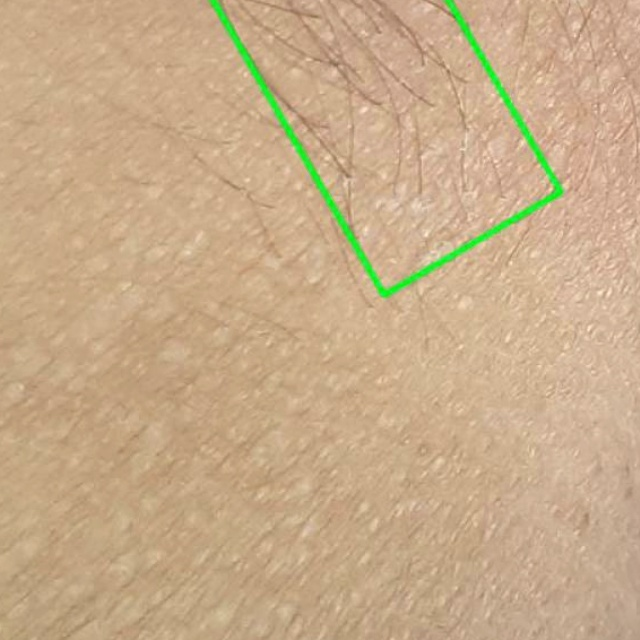Contact Dermatitis: (213, 0, 562, 295)
